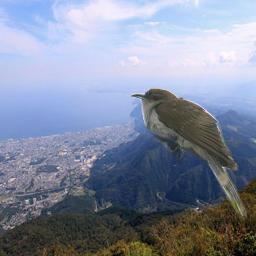Cuckoo: (131, 88, 247, 220)
